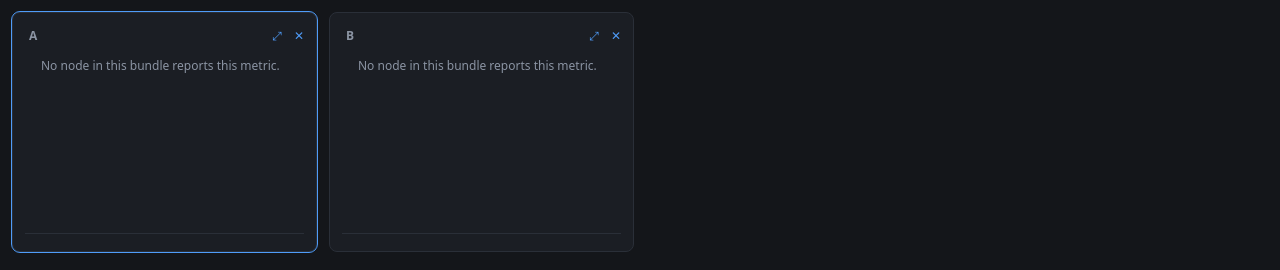
Test: maximizing a panel › shows only the chosen panel, and leaves the grid behind
Expected: the number of elements with class "react-grid-item" is 2, [12,12,317,252]; [329,12,634,252]
Step 1. Click the 1st button "⤢" → (277, 36), box [272,29,282,43]
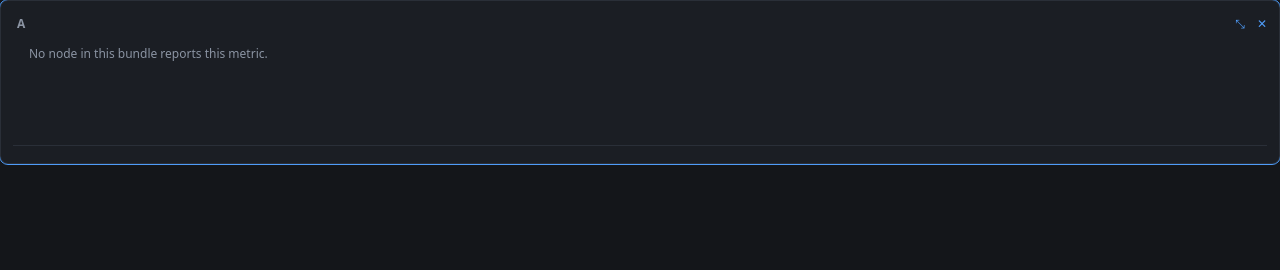
Now no elements with class "react-grid-item" are shown
